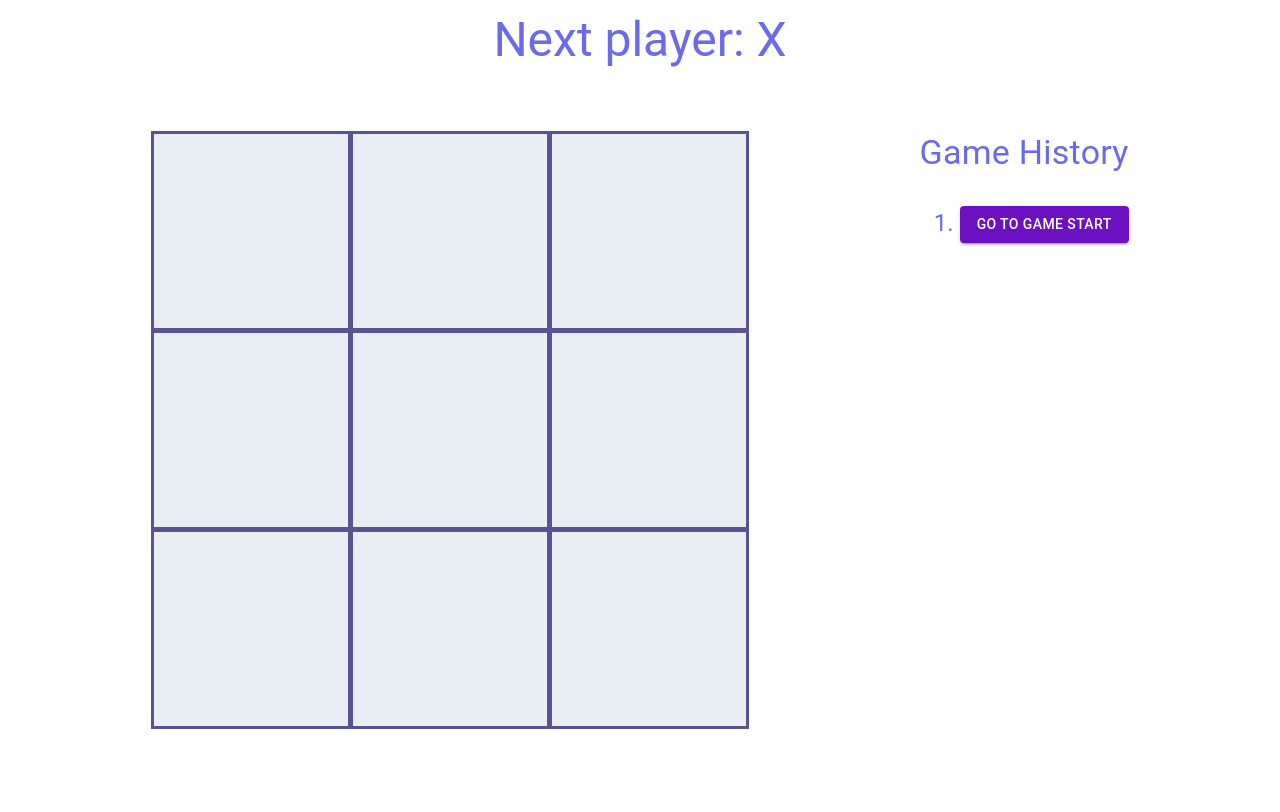
renders game board
The image size is (1280, 812).
Click the button with test id "squareButton1" at (450, 231), box [350,131,550,331]
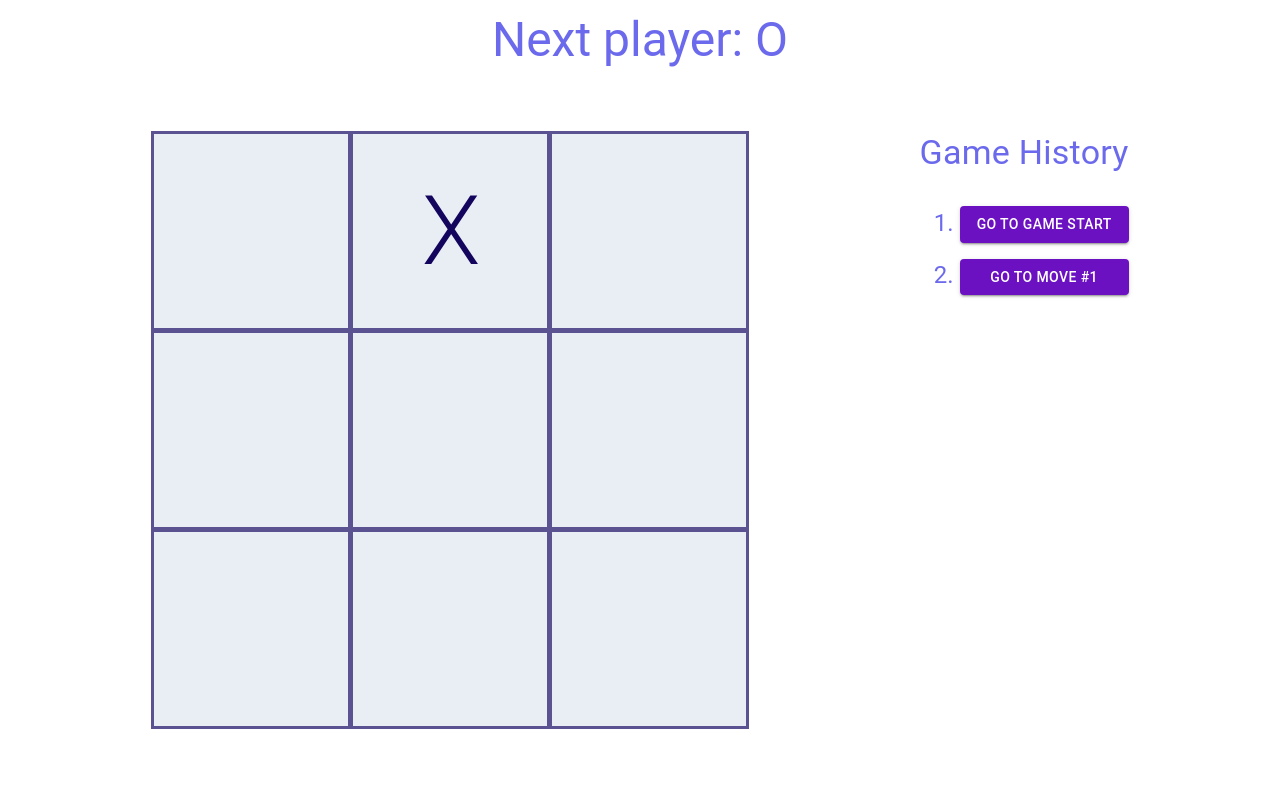
Expected: the button "X" is shown, [350,131,550,331]
